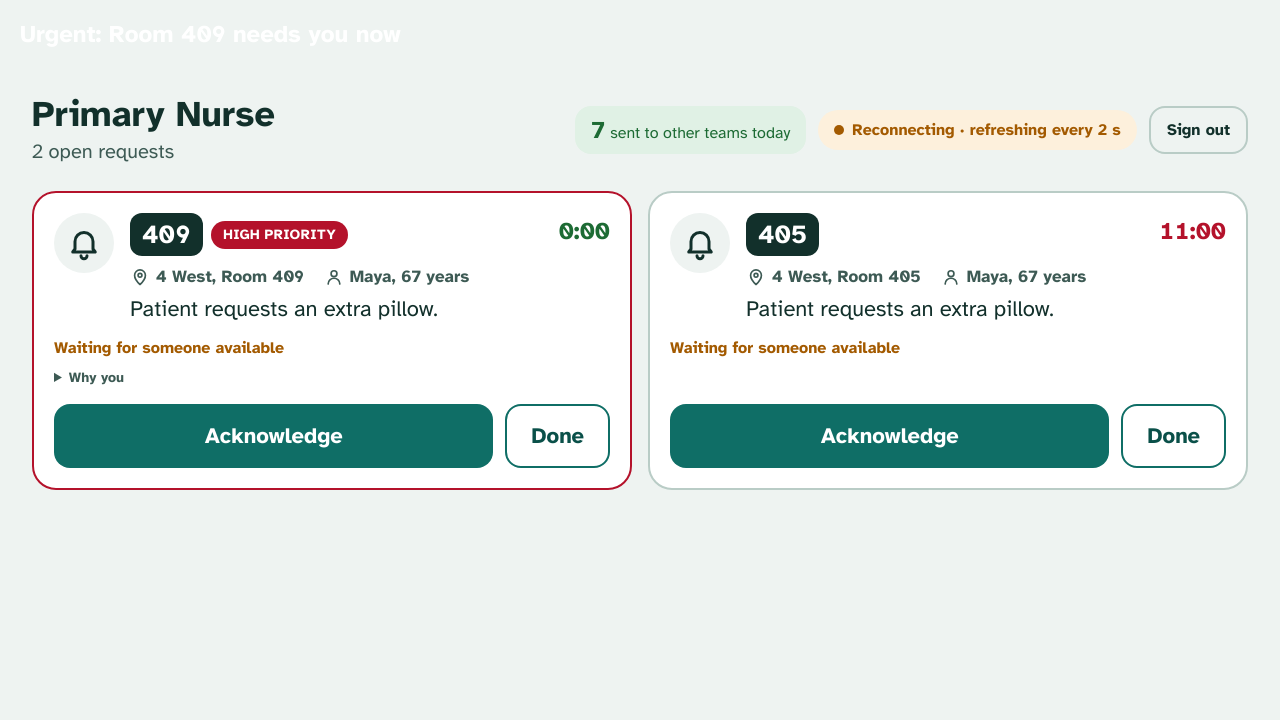
Test: StaffPage › pins HIGH tickets on top for nursing, shows alert banner and diverted counter
The width and height of the screenshot is (1280, 720).
Expected: the text "409" is shown, [130,213,203,256]
Expected: the element with test id "where-who" reads "4 West, Room 409 Maya, 67 years", [130,266,469,287]
Click the heading "Why you": (96,377) [69,369,124,386]
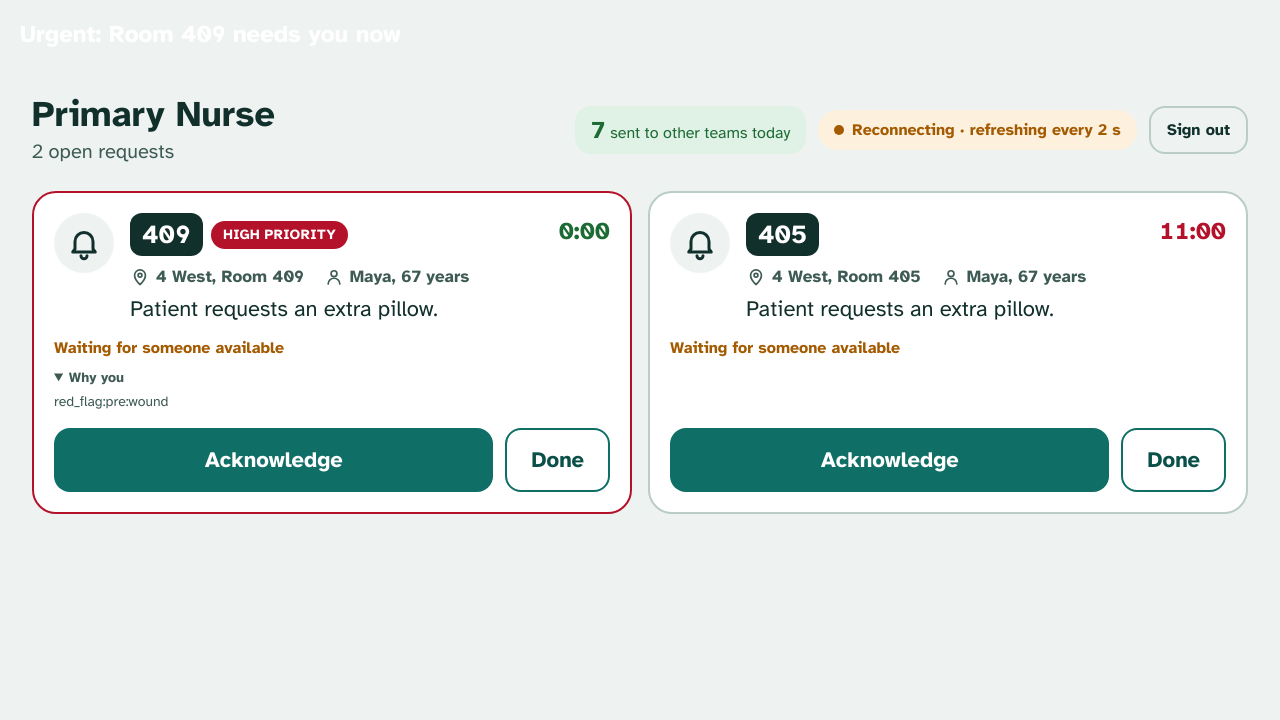
Expected: the element with test id "diverted-counter" shows "7", [591,114,606,144]
Now the text "red_flag:pre:wound" is shown, box [54,393,168,410]
